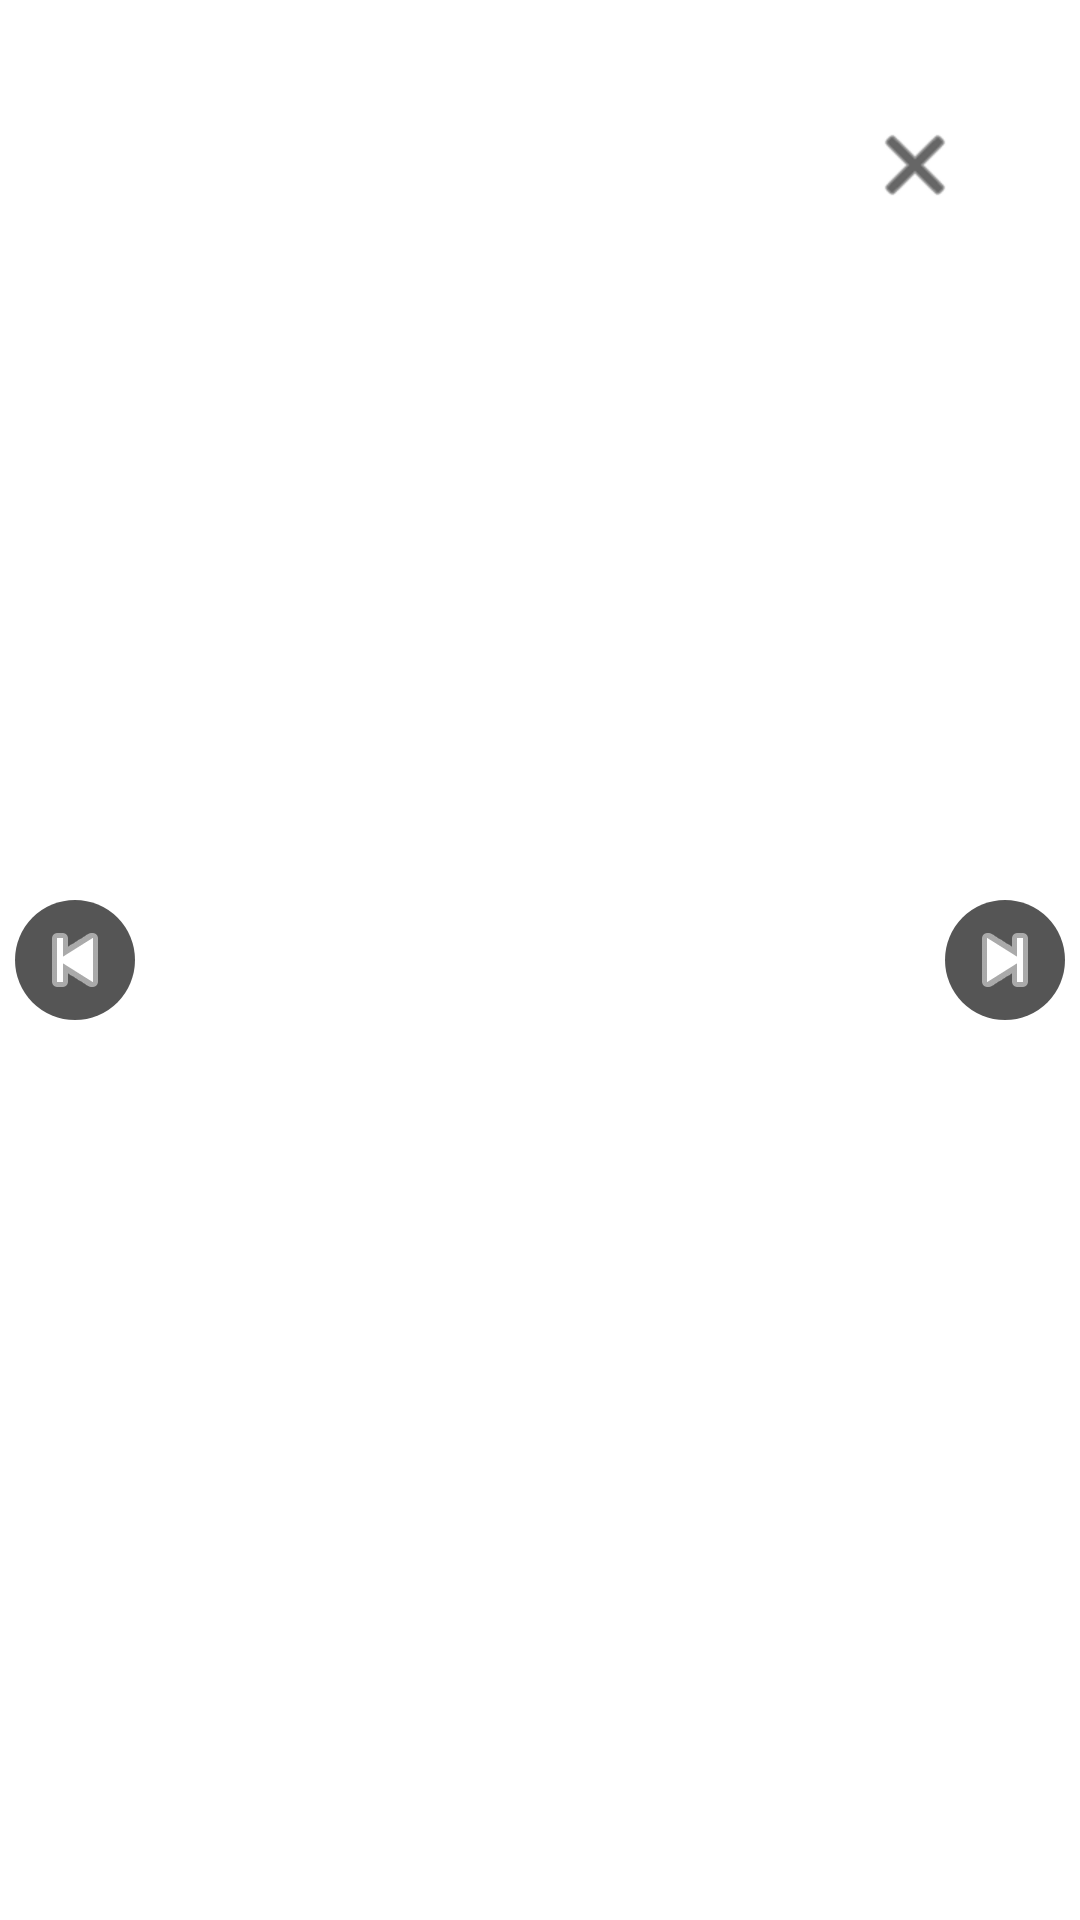

Screen size 1080 x 1920. Icon name, then its center in pixels as (x=x, y=y):
다음: (x=1005, y=960)
닫기: (x=915, y=165)
이전: (x=75, y=960)
